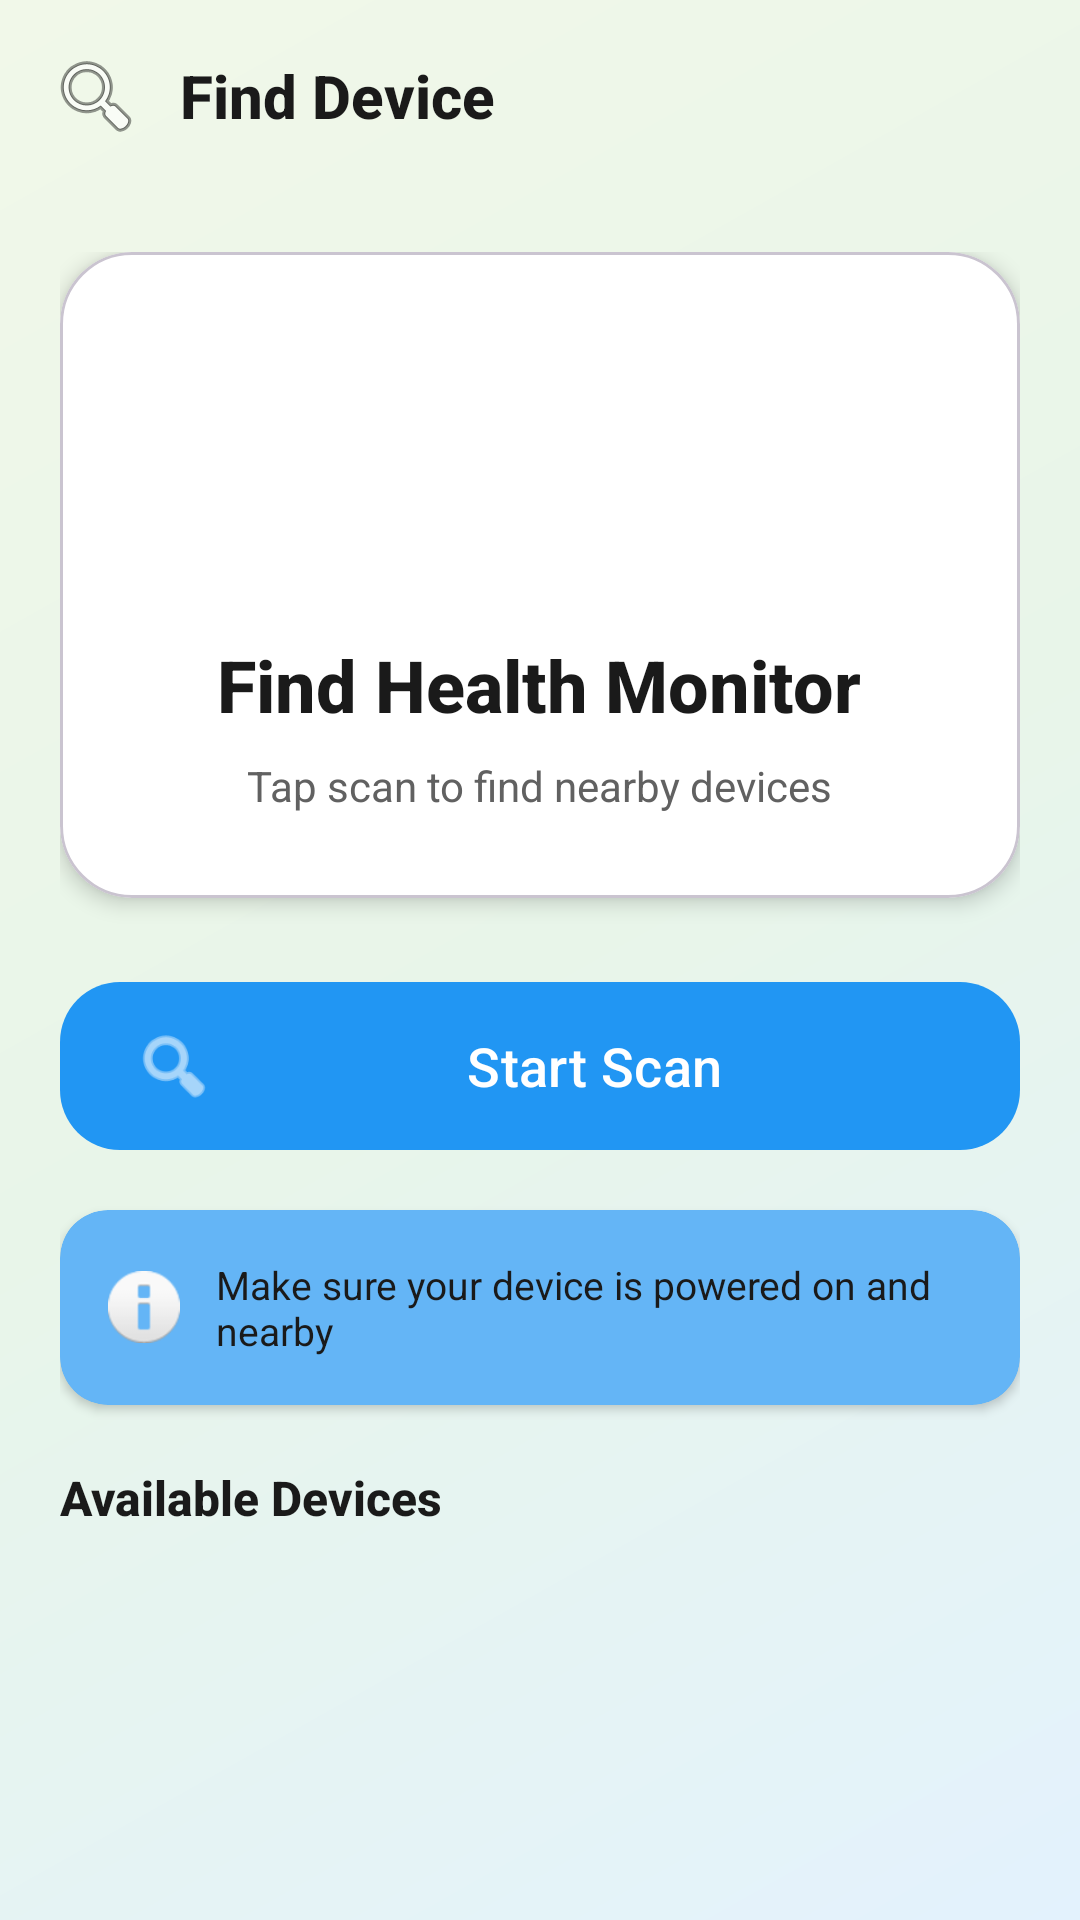

Locate icon controls on the screen. Image size 1080x1920, boxes as box=[x1, y1, x2, y2].
Info: box=[108, 1271, 180, 1343]
